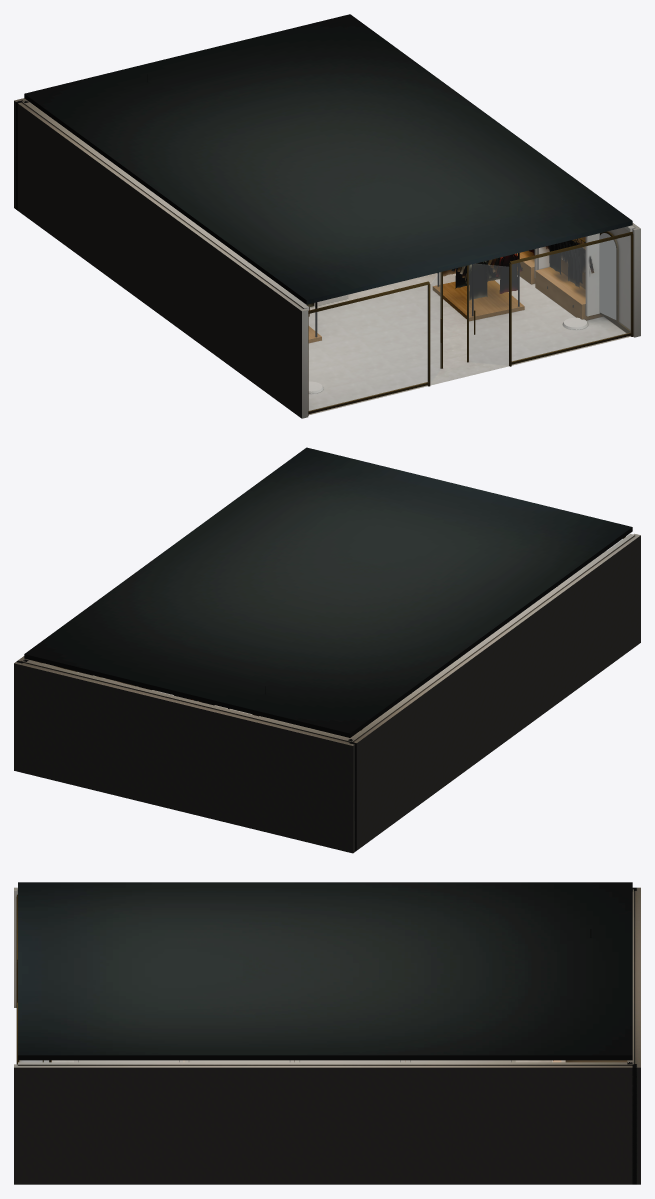
Rendered from store.glb.
3 renders of one model, top to bottom at view 1: azimuth 30°, elevation 25°; view 2: azimuth 150°, elevation 25°; view 3: azimuth 270°, elevation 25°, orthographic. The views are drawn at different scales.
Visible parts, largest first — view 1: store_ceiling, store_arch, store_glass, store_fixtures, store_soft, store_mirror; view 2: store_ceiling, store_arch, store_fixtures; view 3: store_ceiling, store_arch, store_fixtures.
Part boxes in pixels (left/top/right/bottom): store_ceiling: left=24, top=14, right=632, bottom=304; store_arch: left=14, top=98, right=640, bottom=418; store_glass: left=309, top=235, right=630, bottom=414; store_fixtures: left=33, top=74, right=618, bottom=393; store_soft: left=306, top=240, right=594, bottom=316; store_mirror: left=600, top=233, right=616, bottom=319; store_ceiling: left=24, top=447, right=632, bottom=737; store_arch: left=14, top=533, right=640, bottom=853; store_fixtures: left=42, top=550, right=606, bottom=738; store_ceiling: left=18, top=882, right=632, bottom=1060; store_arch: left=14, top=887, right=640, bottom=1184; store_fixtures: left=74, top=929, right=627, bottom=1062.
Size of the model in its own units: 10.4 by 3.62 by 15.3.
Materials: 7 (5 with a texture image).
